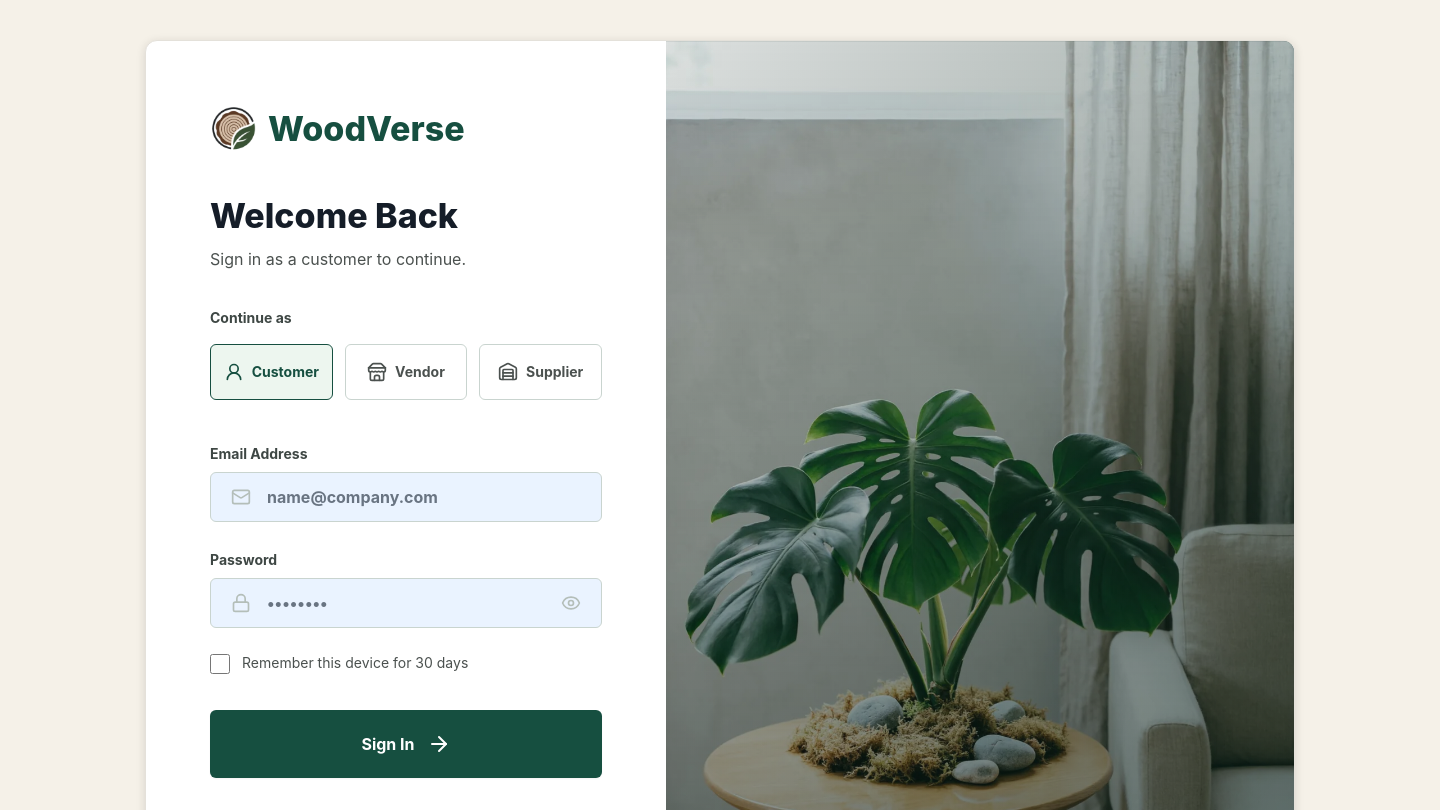
Scenario: Supplier portal routes › lands on the dashboard after signing in, without bouncing back to login
The image size is (1440, 810).
Expected: the heading "Welcome Back" is shown, [210,195,458,236]
Type "ops@lumbinitimber.lk" into the field labelled "Email Address" at (424,496), box [267,484,581,508]
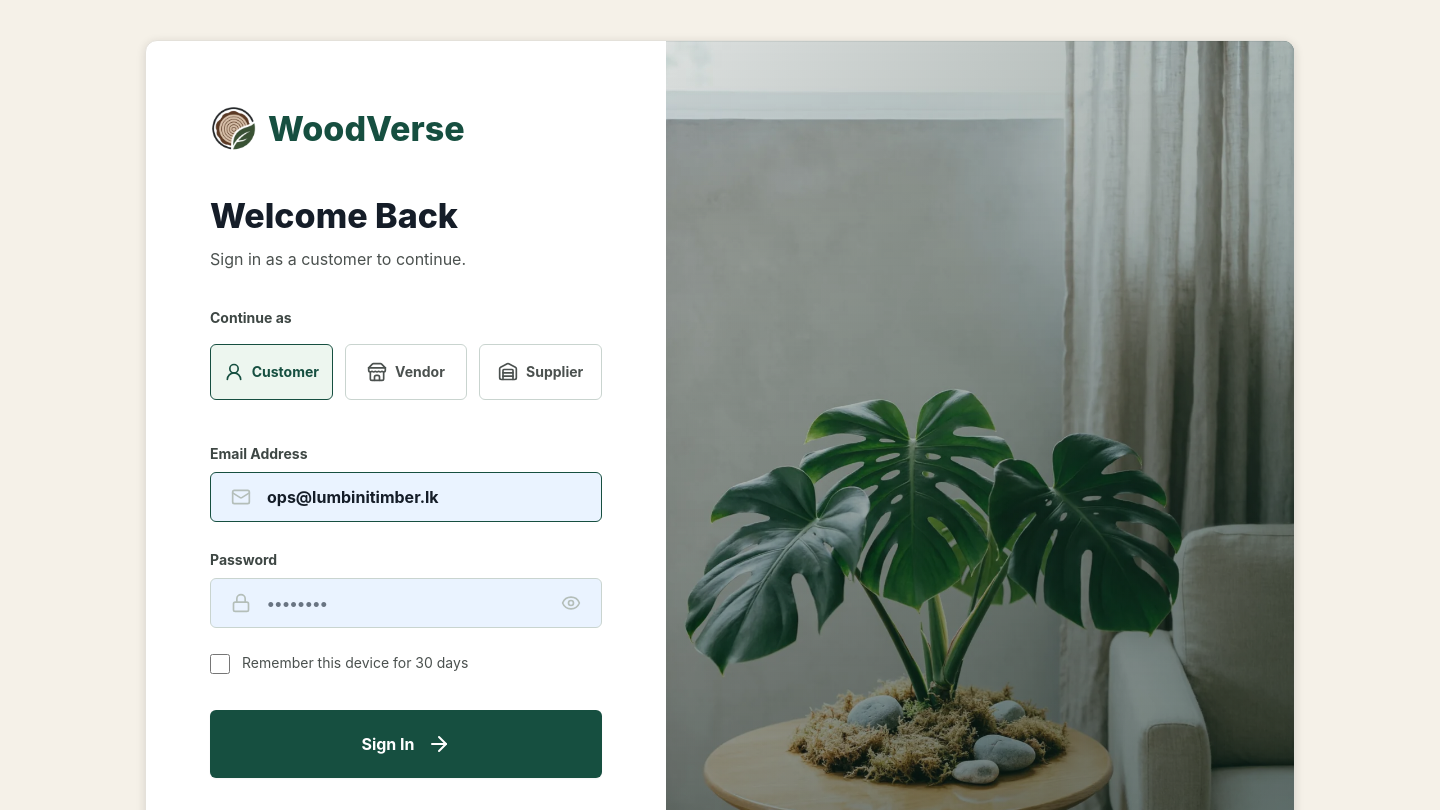
# Exact, because the reveal toggle is labelled "Show password".
Type "Supplier@123" into the password field labelled "Password" at (406,602), box [267,590,545,614]
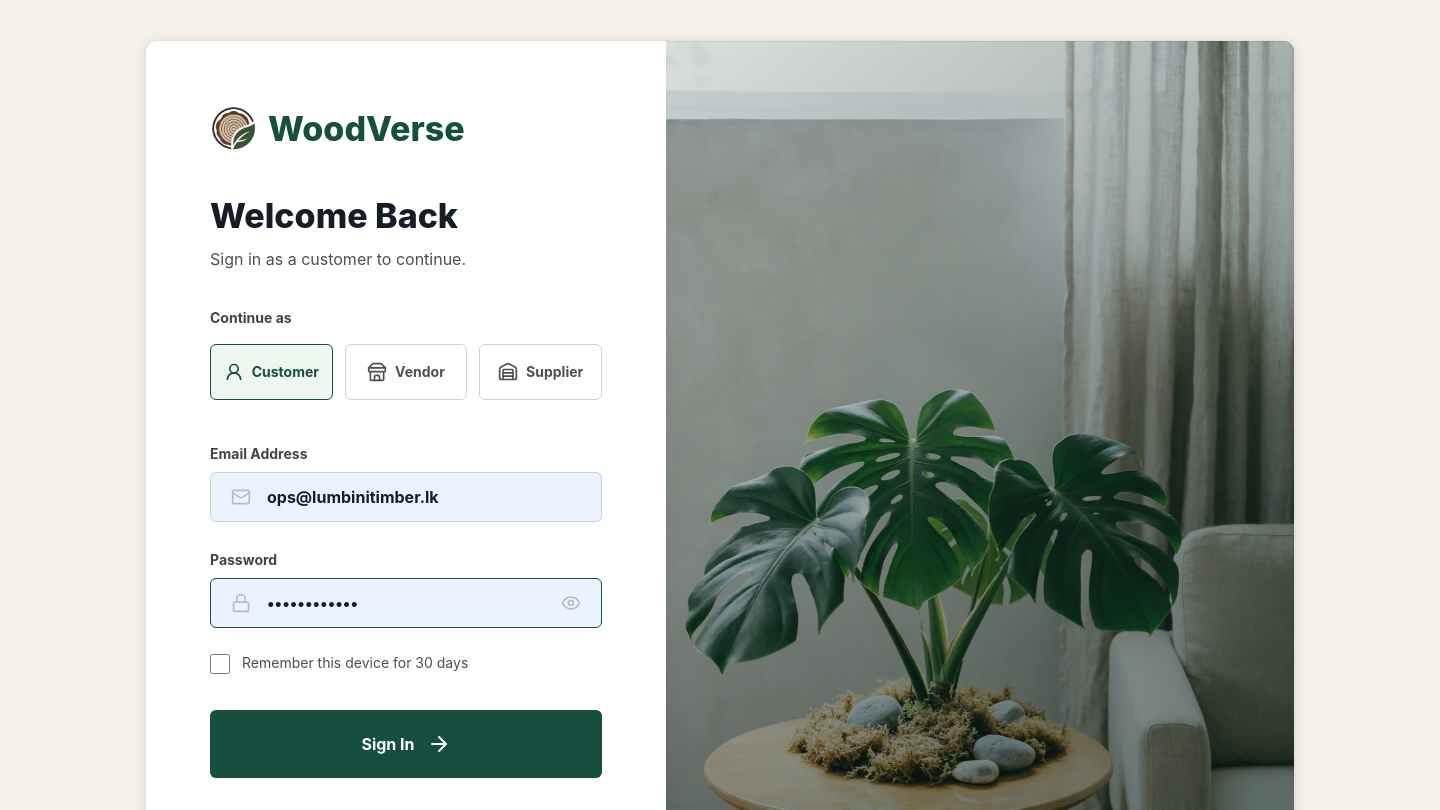
Click the button "Sign In" at (406,744), box [210,710,602,778]
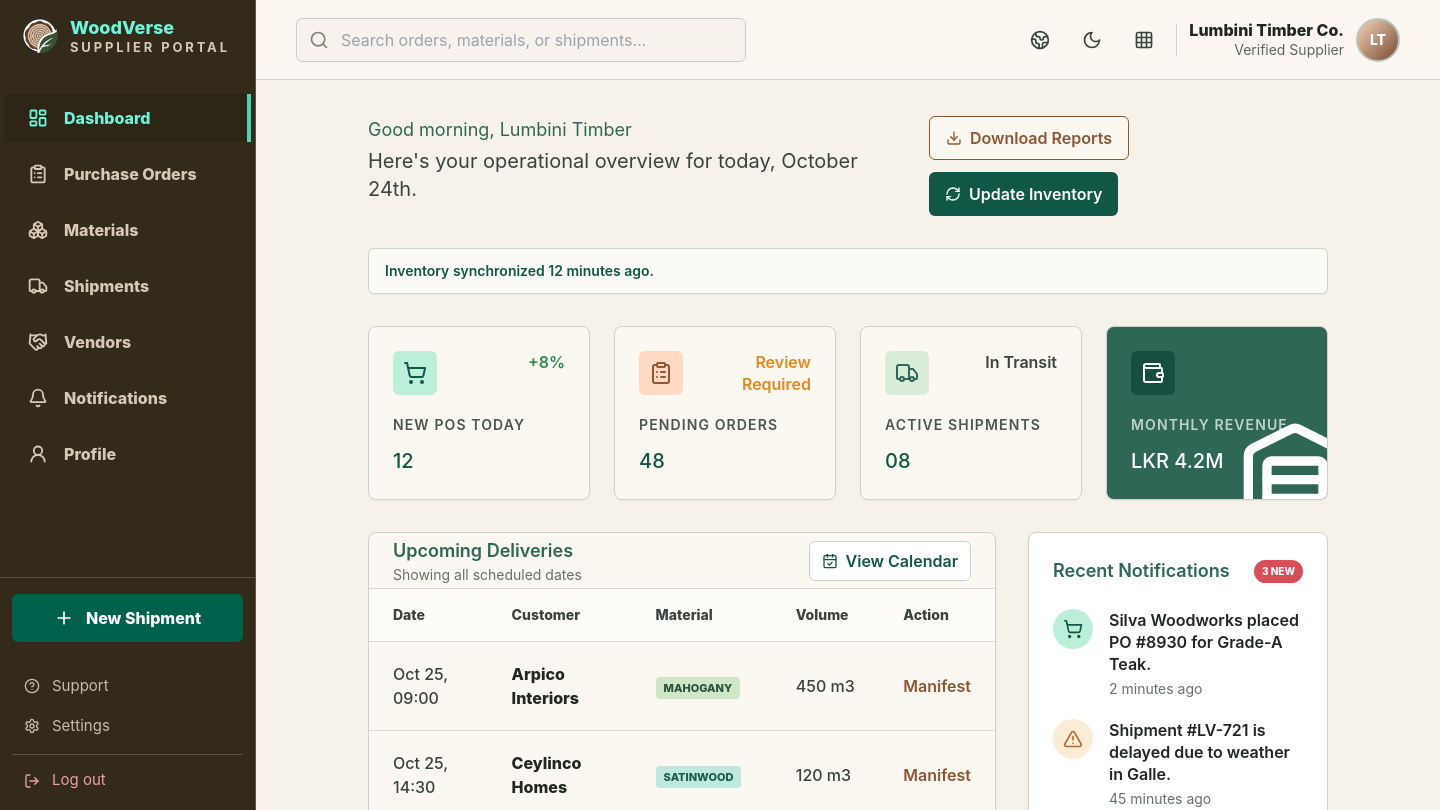
Expected: the heading "Here's your operational overview for today, October 24th." is shown, [368,148,909,203]
